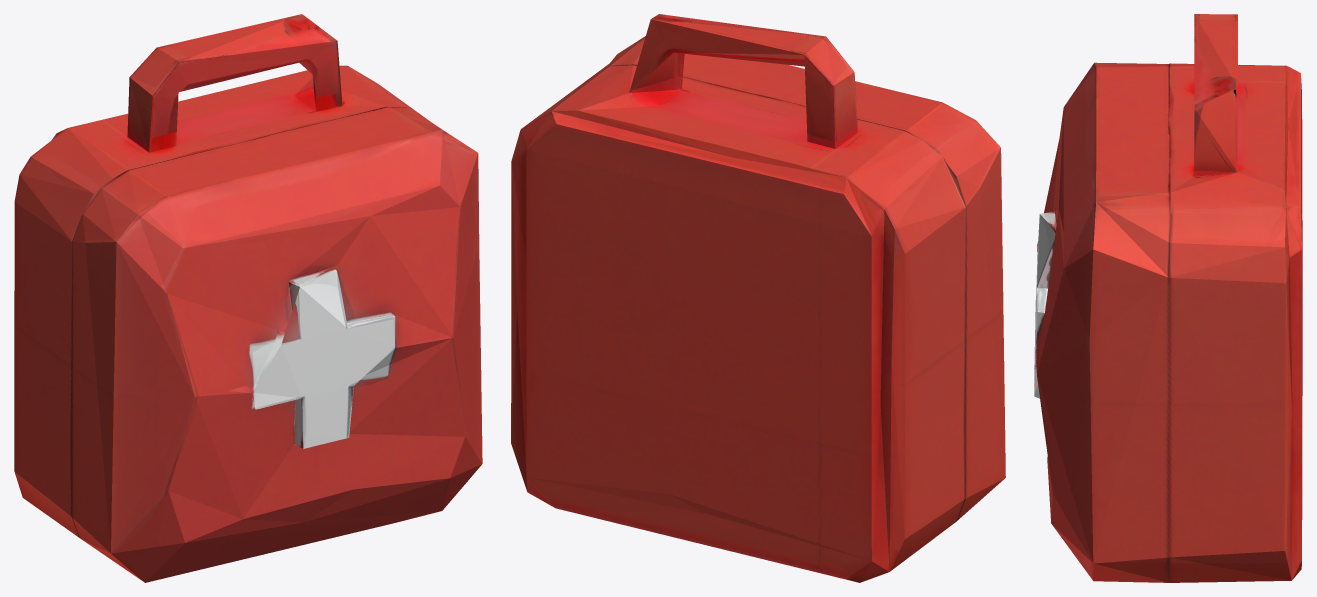
Rendered from health.obj.
3 renders of one model, left to right at view 1: azimuth 30°, elevation 25°; view 2: azimuth 150°, elevation 25°; view 3: azimuth 270°, elevation 25°, orthographic. The views are drawn at different scales.
Parts seen in each view (by area): view 1: a_low_poly_health_pac_0922003048_texture; view 2: a_low_poly_health_pac_0922003048_texture; view 3: a_low_poly_health_pac_0922003048_texture.
Boxes of the visible parts, <box> form: a_low_poly_health_pac_0922003048_texture: <box>14,14,482,582</box>; a_low_poly_health_pac_0922003048_texture: <box>511,14,1005,582</box>; a_low_poly_health_pac_0922003048_texture: <box>1034,14,1302,582</box>.
Size of the model in its own units: 1.65 by 2 by 1.03.
